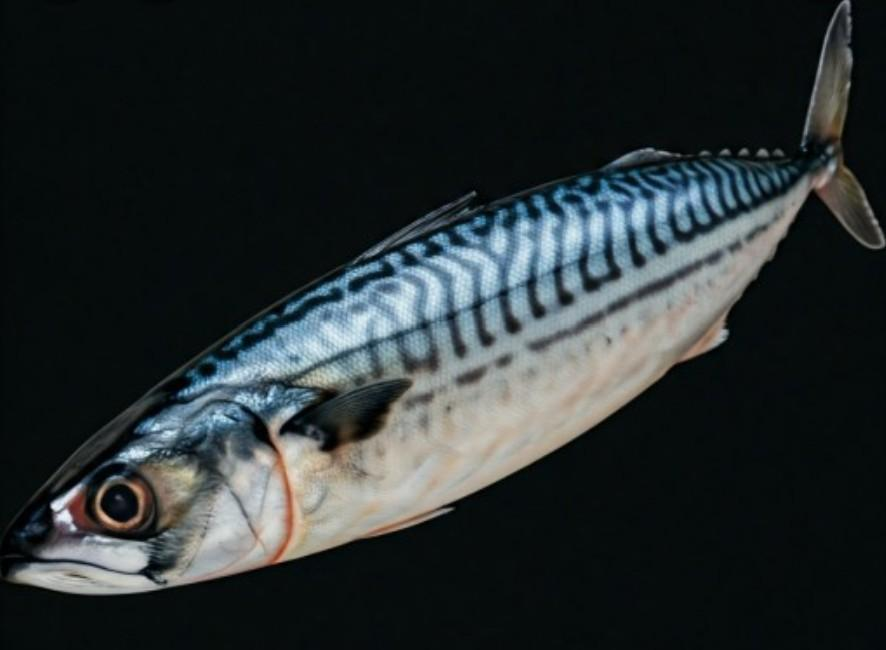fish: (0, 1, 885, 595)
